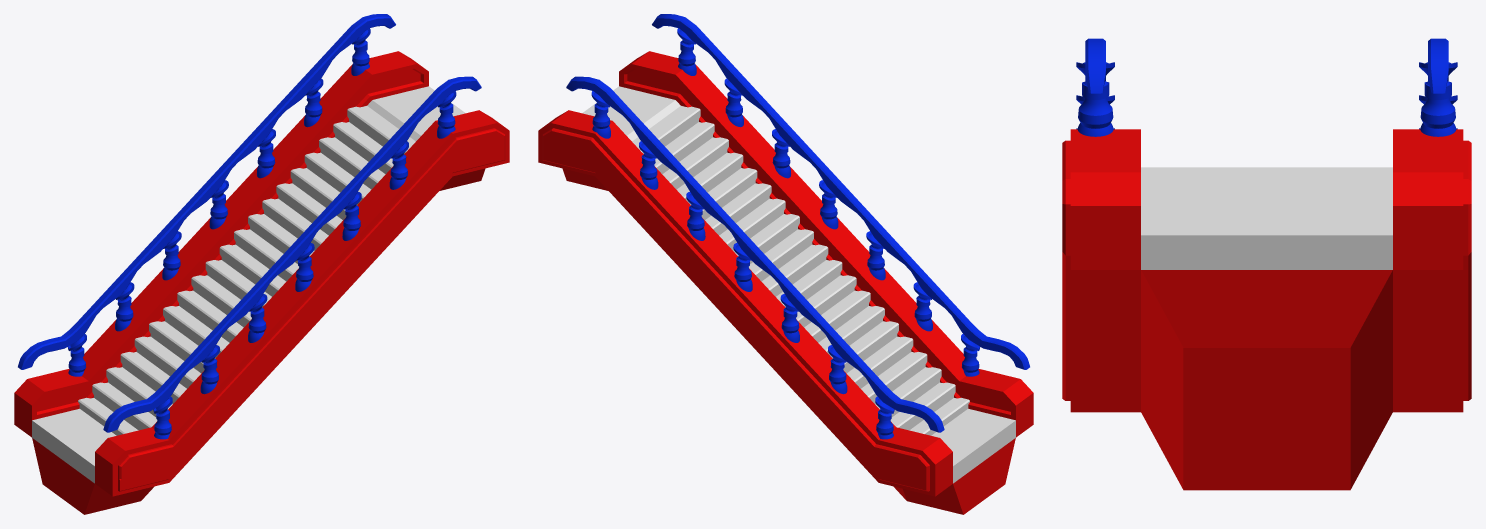
Rendered from Stairs 1.fbx.
3 renders of one model, left to right at view 1: azimuth 30°, elevation 25°; view 2: azimuth 150°, elevation 25°; view 3: azimuth 270°, elevation 25°, orthographic. The views are drawn at different scales.
Visible parts, largest first — view 1: Stairs.005; view 2: Stairs.005; view 3: Stairs.005.
Part boxes in pixels (x1,y1,x2,y2): Stairs.005: (14, 14, 509, 514); Stairs.005: (538, 14, 1033, 514); Stairs.005: (1062, 38, 1471, 490).
Bounding box in the file's own units: 14.04 × 12.34 × 6.25.
